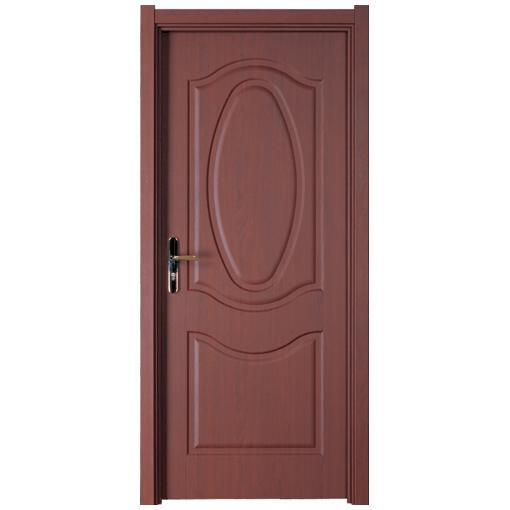door: (166, 33, 349, 498)
